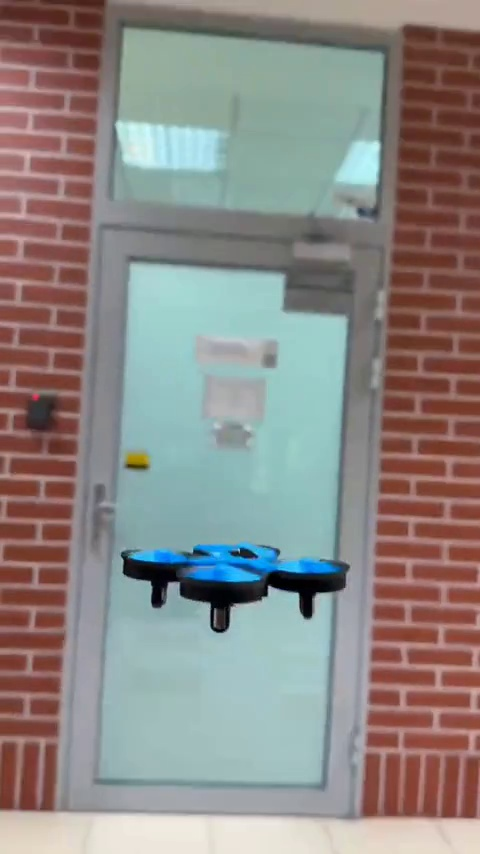drone: (114, 538, 351, 632)
